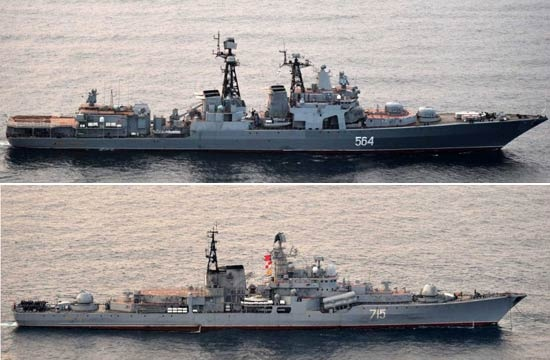warship: (5, 24, 550, 155), (9, 215, 538, 334)
